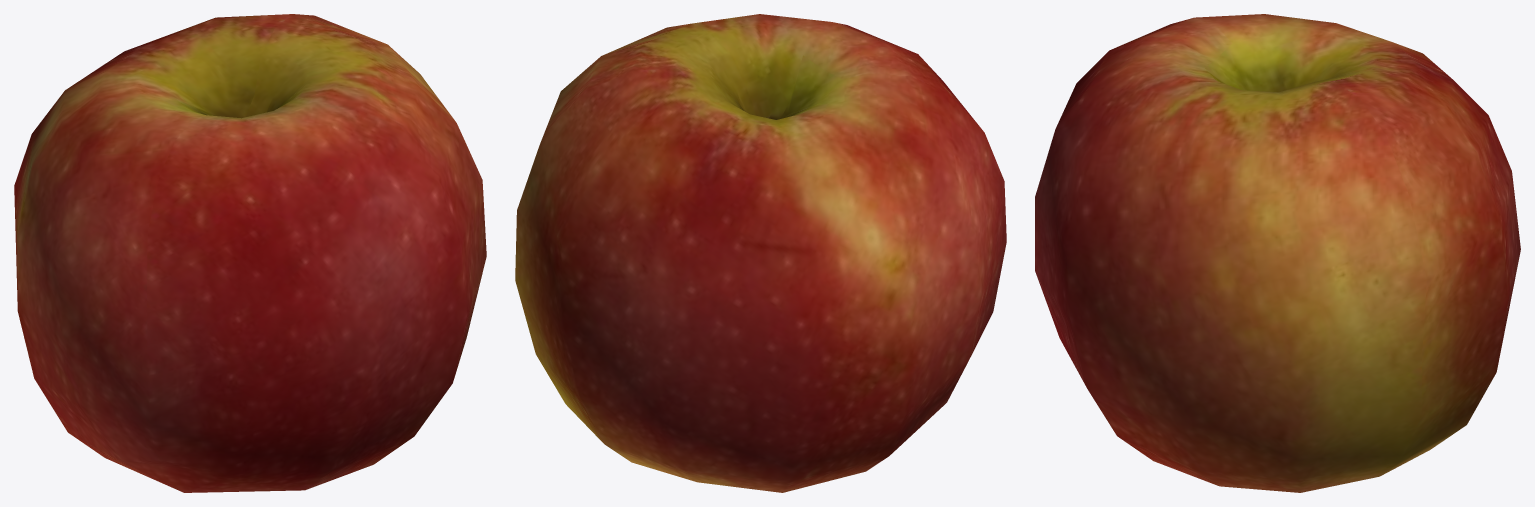
Rendered from A132_Apple_low.fbx.
3 views of the same model, side by side, from view 1: azimuth 30°, elevation 25°; view 2: azimuth 150°, elevation 25°; view 3: azimuth 270°, elevation 25° (orthographic). The views are drawn at different scales.
Visible parts, largest first — view 1: A132_Apple_low; view 2: A132_Apple_low; view 3: A132_Apple_low.
Part boxes in pixels (left/top/right/bottom): A132_Apple_low: left=14, top=14, right=486, bottom=492; A132_Apple_low: left=515, top=14, right=1006, bottom=492; A132_Apple_low: left=1035, top=14, right=1520, bottom=492.
Bounding box in the file's own units: 8.91 × 8.81 × 7.79.
Materials: 1 (1 with a texture image).
